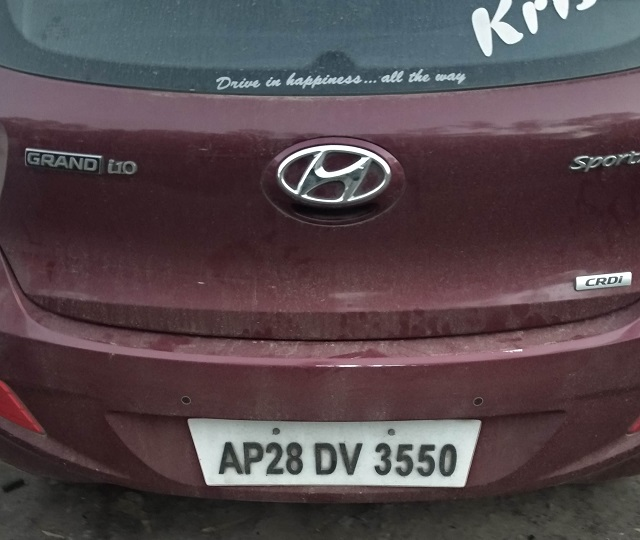licenseplate: (181, 414, 483, 492)
